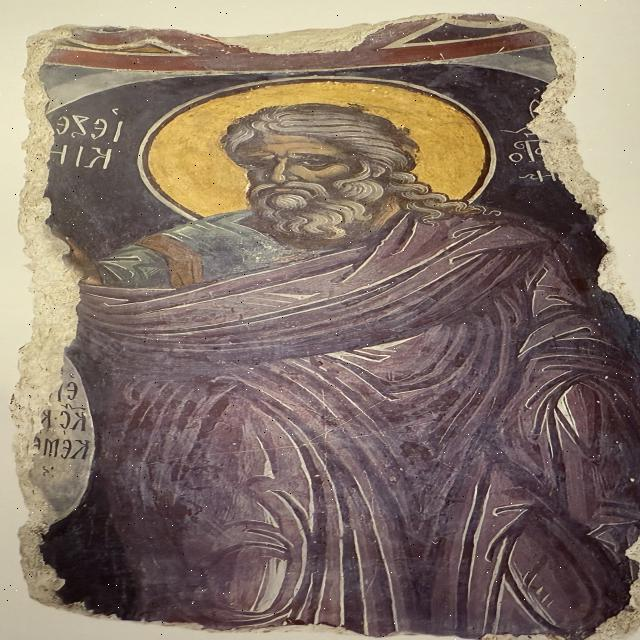aura: (133, 74, 501, 238)
saint: (32, 61, 622, 633)
